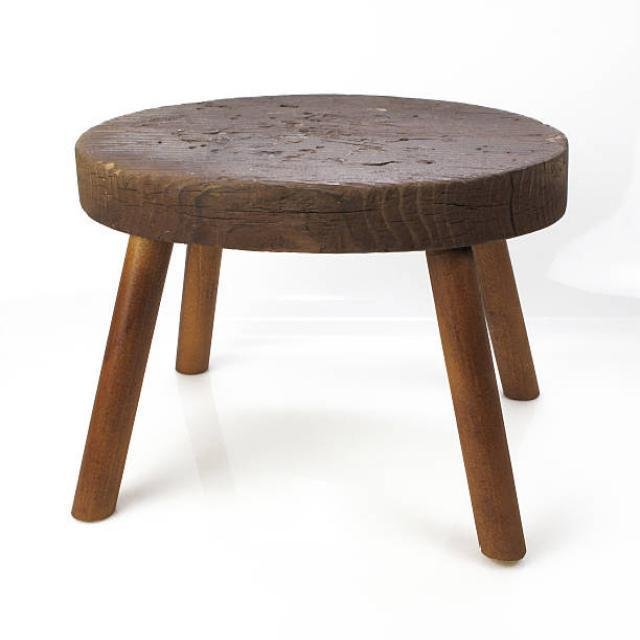table: (70, 92, 569, 562)
